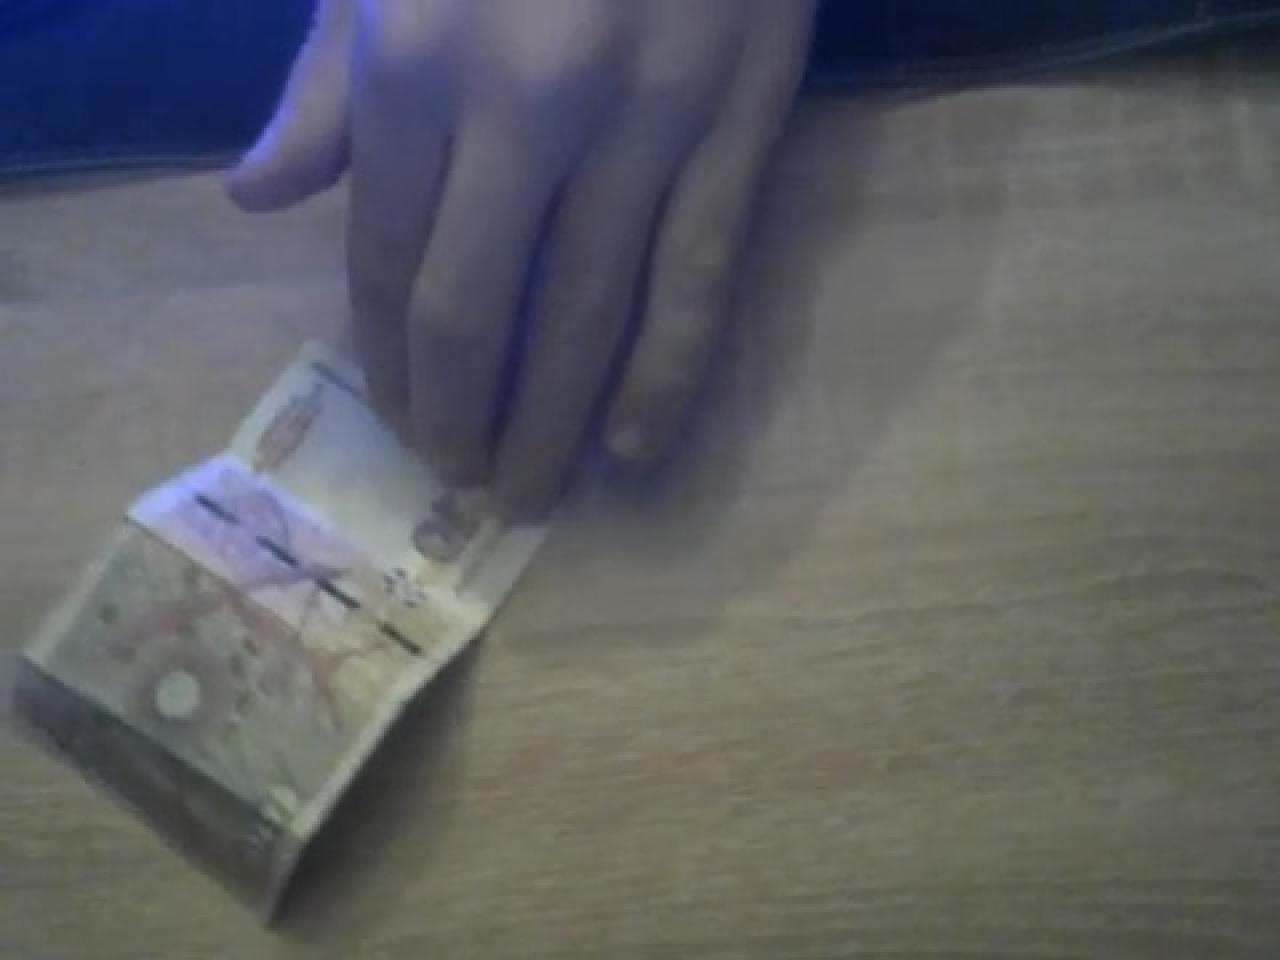10leva: (16, 341, 552, 928)
